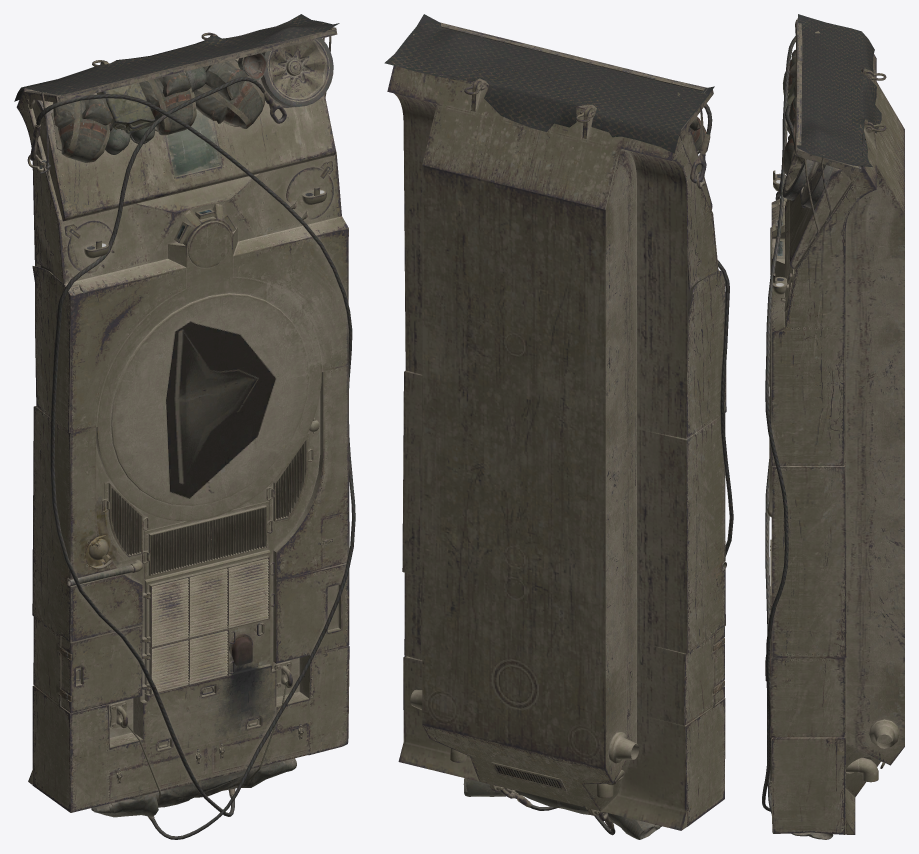
The model's file is Hull.glb.
The picture shows the model from 3 angles, left to right: view 1: azimuth 30°, elevation 25°; view 2: azimuth 150°, elevation 25°; view 3: azimuth 270°, elevation 25°; orthographic projection. The views are drawn at different scales.
Visible parts, largest first — view 1: set_0_group_0, set_0_group_1; view 2: set_0_group_0, set_0_group_1; view 3: set_0_group_0, set_0_group_1.
Part boxes in pixels (x1,y1,x2,y2): set_0_group_0: (16, 26, 349, 812); set_0_group_1: (14, 14, 355, 839); set_0_group_0: (387, 65, 726, 830); set_0_group_1: (384, 14, 733, 839); set_0_group_0: (765, 54, 904, 834); set_0_group_1: (762, 14, 881, 839).
Size of the model in its own units: 2.98 by 7.31 by 1.27.
Materials: 2 (2 with a texture image).
